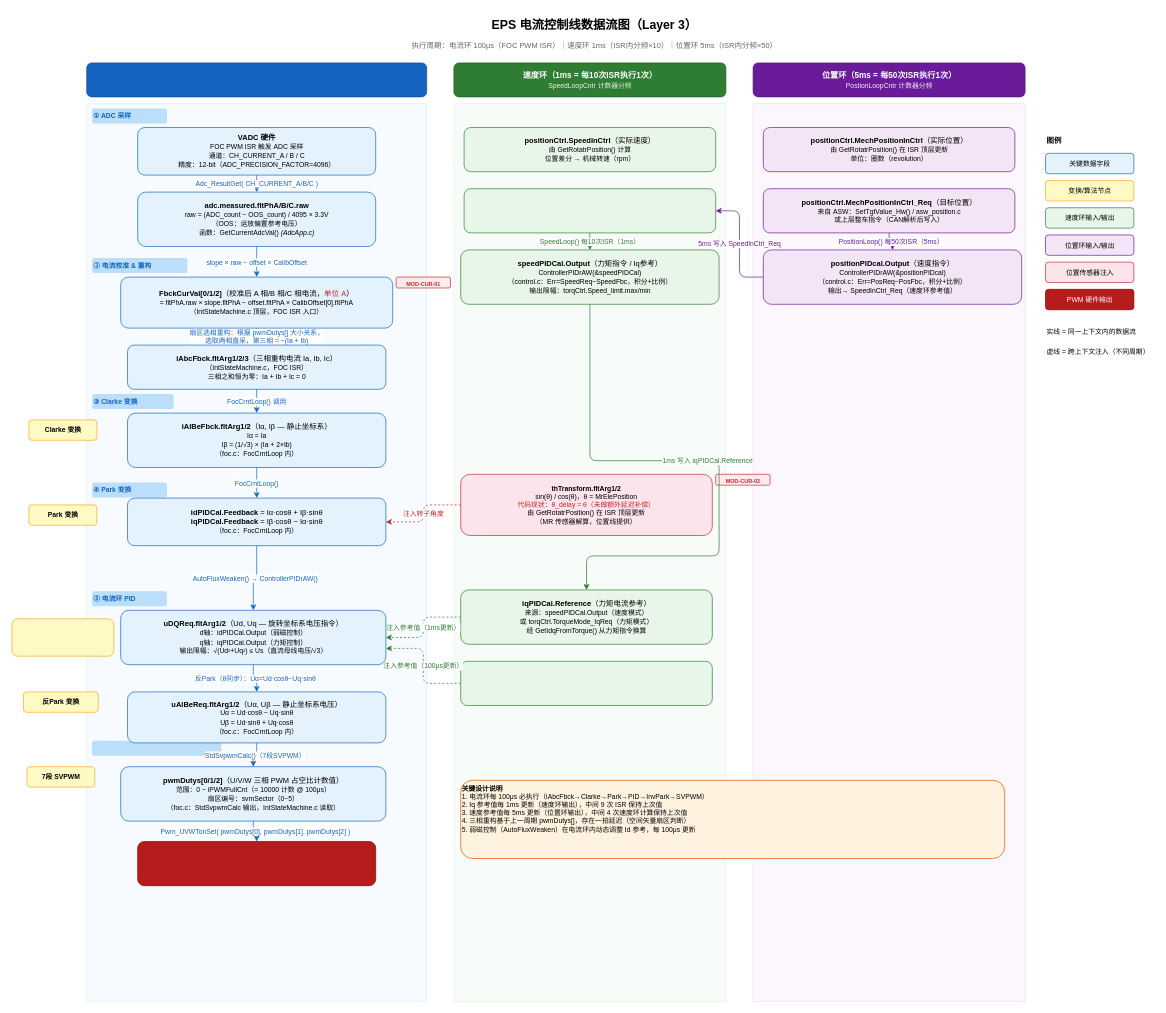
Image size: 1166x1013. Some labels were removed from this diagram. The box of each missing label's shape, as (x1, y1, x2, y2) in pixels:
Err = Ref − Fbc Acc += Err × Ki Out = Kp×Err + Acc: (11, 618, 114, 656)
FOC PWM ISR（100μs） 每个 PWM 中断必执行: (86, 62, 427, 97)
GTM 寄存器 （硬件 PWM 输出） 下一个 PWM 周期生效（延迟 100μs） 驱动三相逆变桥，产生电机相电压: (137, 841, 376, 886)
idPIDCal.Reference （磁通电流参考） 正常：= 0（非弱磁） 弱磁时：= FwPIDcal.Output（AutoFluxWeaken）: (460, 661, 712, 706)
positionCtrl.SpeedInCtrl_Req （目标速度） 来自位置环输出（位置模式） 或 ASW 直接写入（速度模式）: (463, 188, 716, 233)
⑥ 反Park + SVPWM + 输出: (92, 741, 221, 755)
